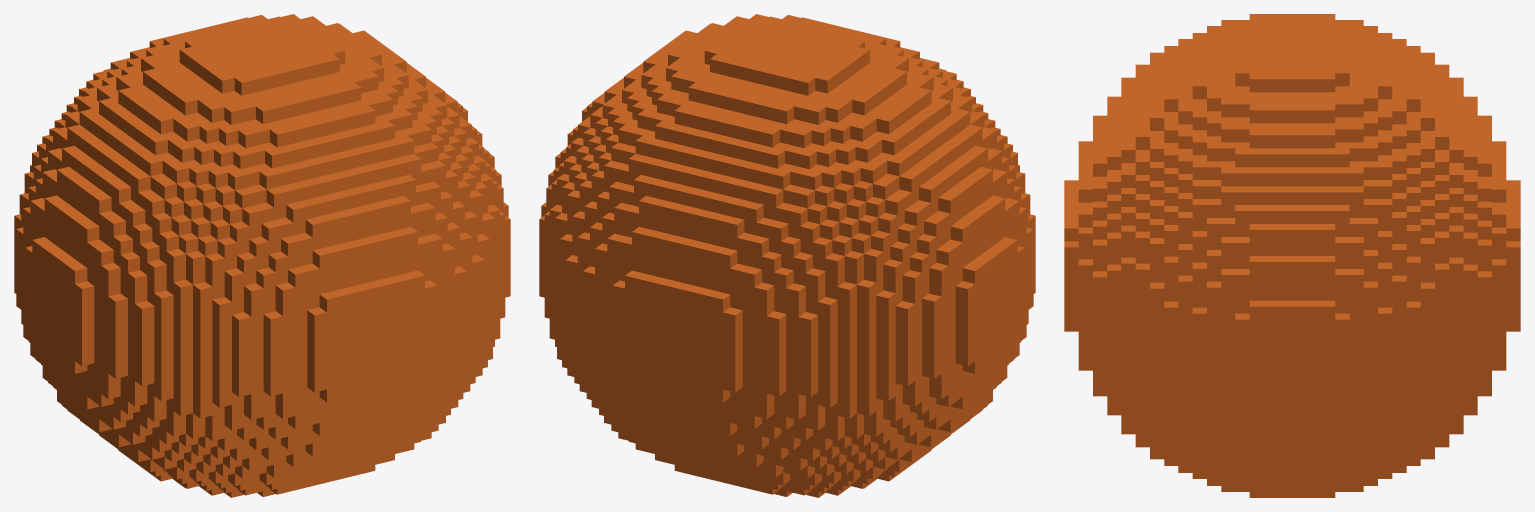
File: FrogStatue-0.obj
3 views of the same model, side by side, from view 1: azimuth 30°, elevation 25°; view 2: azimuth 150°, elevation 25°; view 3: azimuth 270°, elevation 25° (orthographic).
Parts seen in each view (by area): view 1: FrogStatue-0; view 2: FrogStatue-0; view 3: FrogStatue-0.
Part boxes in pixels (x1,y1,x2,y2): FrogStatue-0: (14,14,510,497); FrogStatue-0: (539,14,1035,497); FrogStatue-0: (1064,14,1520,497).
Size of the model in its own units: 34 by 32 by 32.
1 material, 1 textured.
